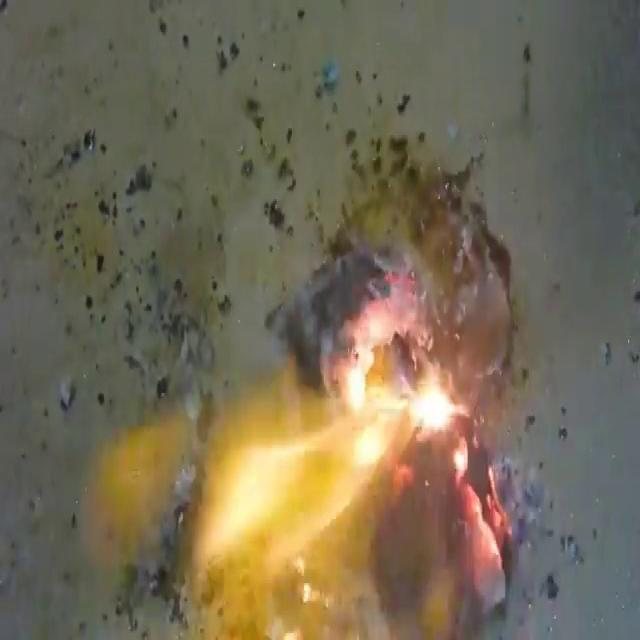Fire: (83, 146, 519, 636)
